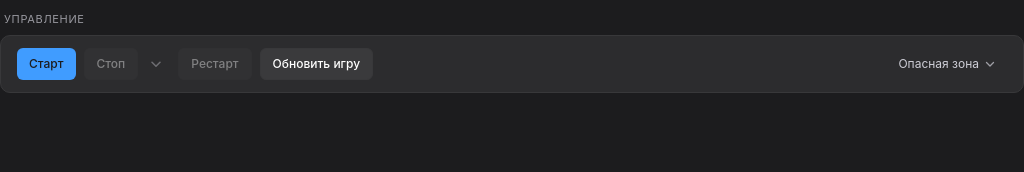
Test: ServerControls › shows a rejected action request as an error instead of an unhandled rejection
Click the button "Старт": (46, 64) [17,48,76,80]
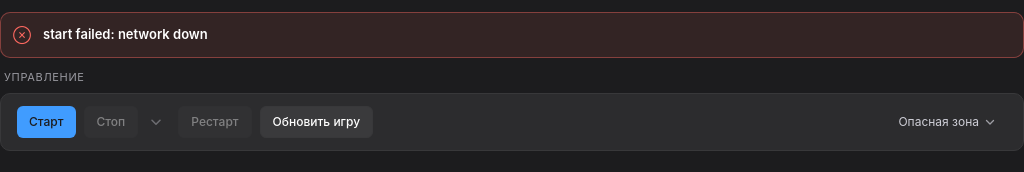
Result: the text "start failed: network down" is shown at [43,26,208,42]
